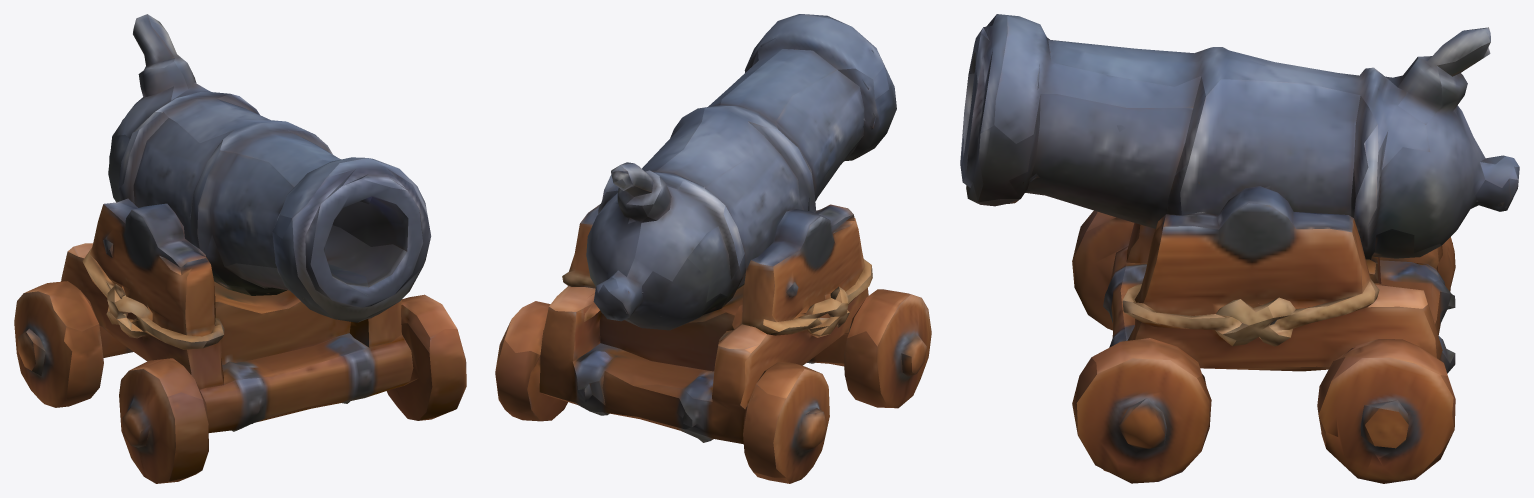
File: BLD-05.glb
The picture shows the model from 3 angles, left to right: view 1: azimuth 30°, elevation 25°; view 2: azimuth 150°, elevation 25°; view 3: azimuth 270°, elevation 25°; orthographic projection. The views are drawn at different scales.
Parts seen in each view (by area): view 1: BLD-05; view 2: BLD-05; view 3: BLD-05.
Boxes of the visible parts, x1,y1,x2,y2 form: BLD-05: (14,14,466,483); BLD-05: (495,14,931,483); BLD-05: (960,14,1519,483).
Bounding box in the file's own units: 0.884 × 0.85 × 1.13.
Materials: 1 (1 with a texture image).
